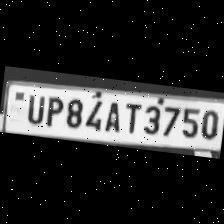0: (197, 106, 222, 140)
3: (137, 100, 162, 136)
4: (82, 94, 106, 132)
5: (175, 103, 200, 138)
7: (158, 102, 181, 138)
8: (59, 94, 84, 130)
A: (100, 97, 123, 133)
P: (41, 92, 65, 128)
T: (119, 98, 142, 134)
U: (22, 90, 46, 125)
